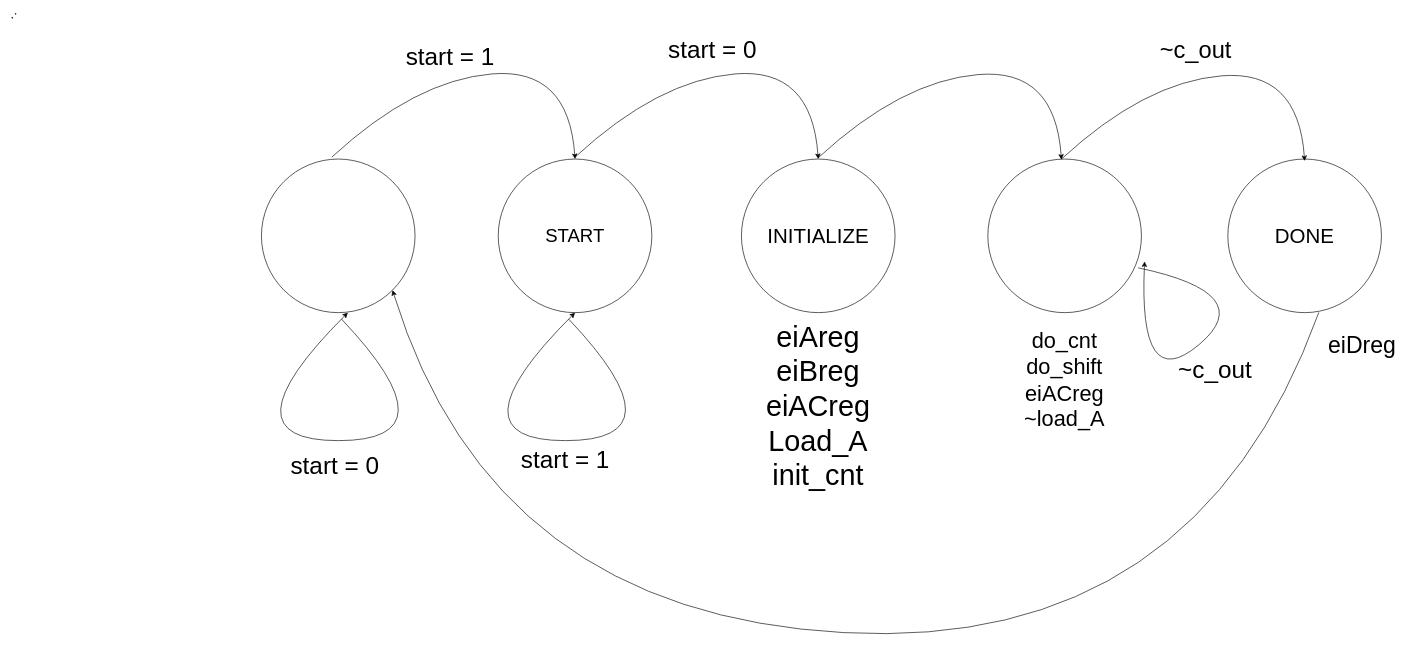
This 1424x645 diagram has some shape labels left out. Each missing label, with the box of its shape:
EXECUTE: (987, 158, 1141, 313)
IDLE: (261, 158, 415, 313)
